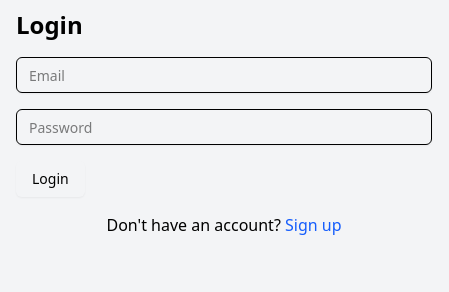
Test: Login Page › shows backend error for invalid credentials
In the field with placeholder "Email": x=224, y=75 [16, 57, 432, 93], type "fail@example.com"
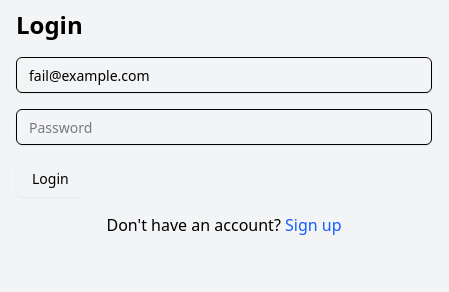
In the password field with placeholder "Password": x=224, y=127 [16, 109, 432, 145], type "password123"
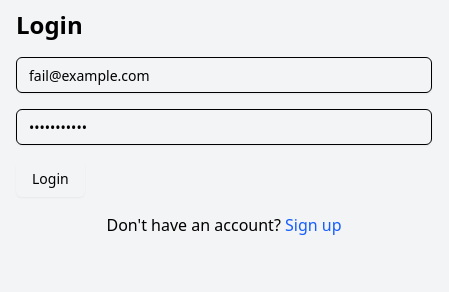
Click the button "Login": x=50, y=179 [16, 161, 85, 197]
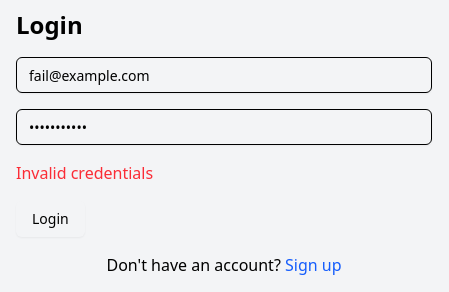
Expected: the text "Invalid credentials" is shown, [16, 162, 153, 184]
